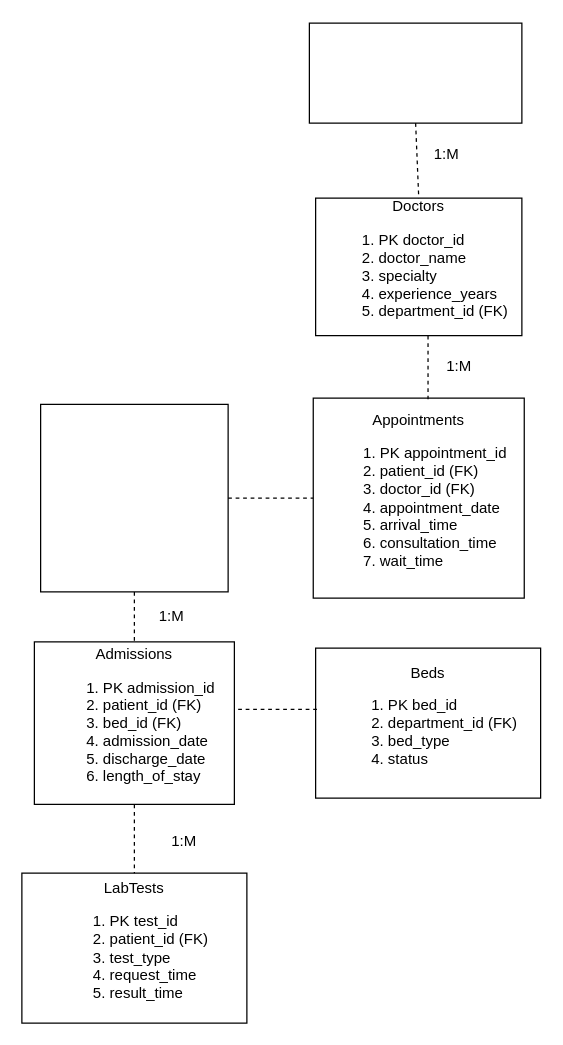
This 563x1045 diagram has some shape labels left out. Here are the shapes that lost their labels. From the top down, the box of each, then its label:
(308, 22, 522, 123): Departments PK department_id department_name location :
(39, 403, 228, 592): Patients PK patient_id name age gender city
